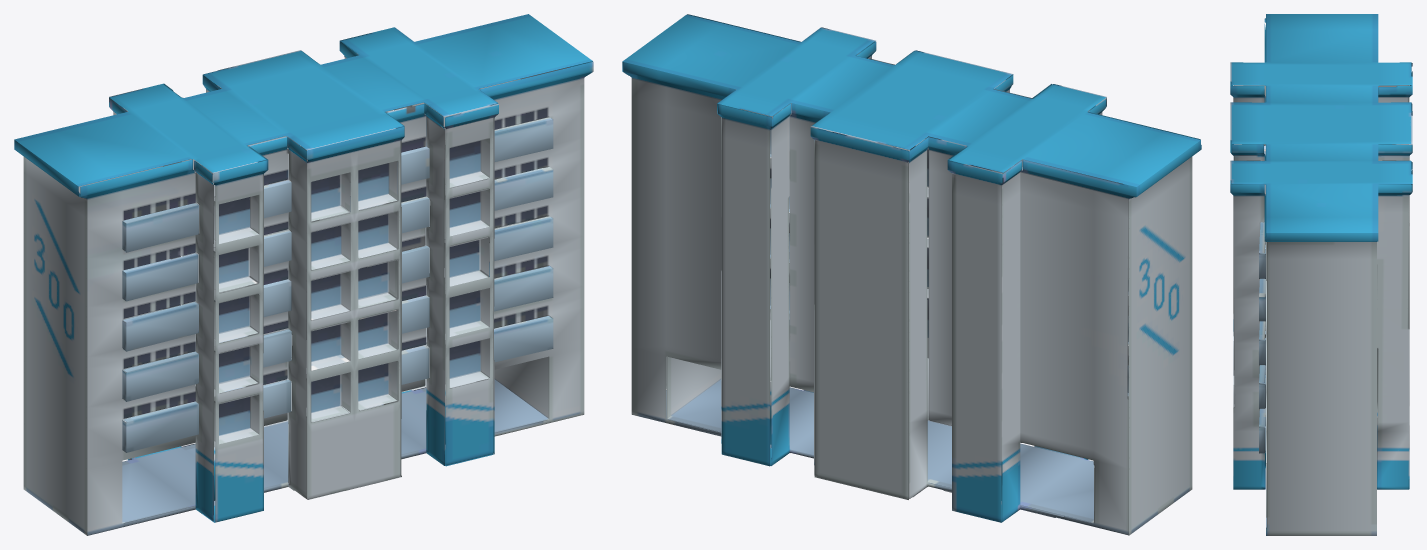
The model's file is HDBBlock.fbx.
3 renders of one model, left to right at view 1: azimuth 30°, elevation 25°; view 2: azimuth 150°, elevation 25°; view 3: azimuth 270°, elevation 25°, orthographic. The views are drawn at different scales.
Parts seen in each view (by area): view 1: hdb; view 2: hdb; view 3: hdb.
Boxes of the visible parts, x1,y1,x2,y2 form: hdb: (14, 14, 593, 535); hdb: (622, 14, 1201, 535); hdb: (1230, 14, 1412, 535).
Size of the model in its own units: 1023 by 669 by 360.
